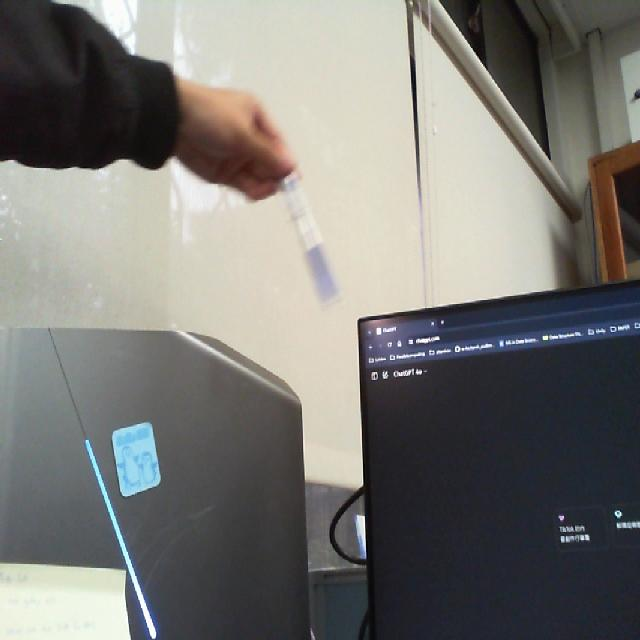Pen: (252, 135, 350, 329)
